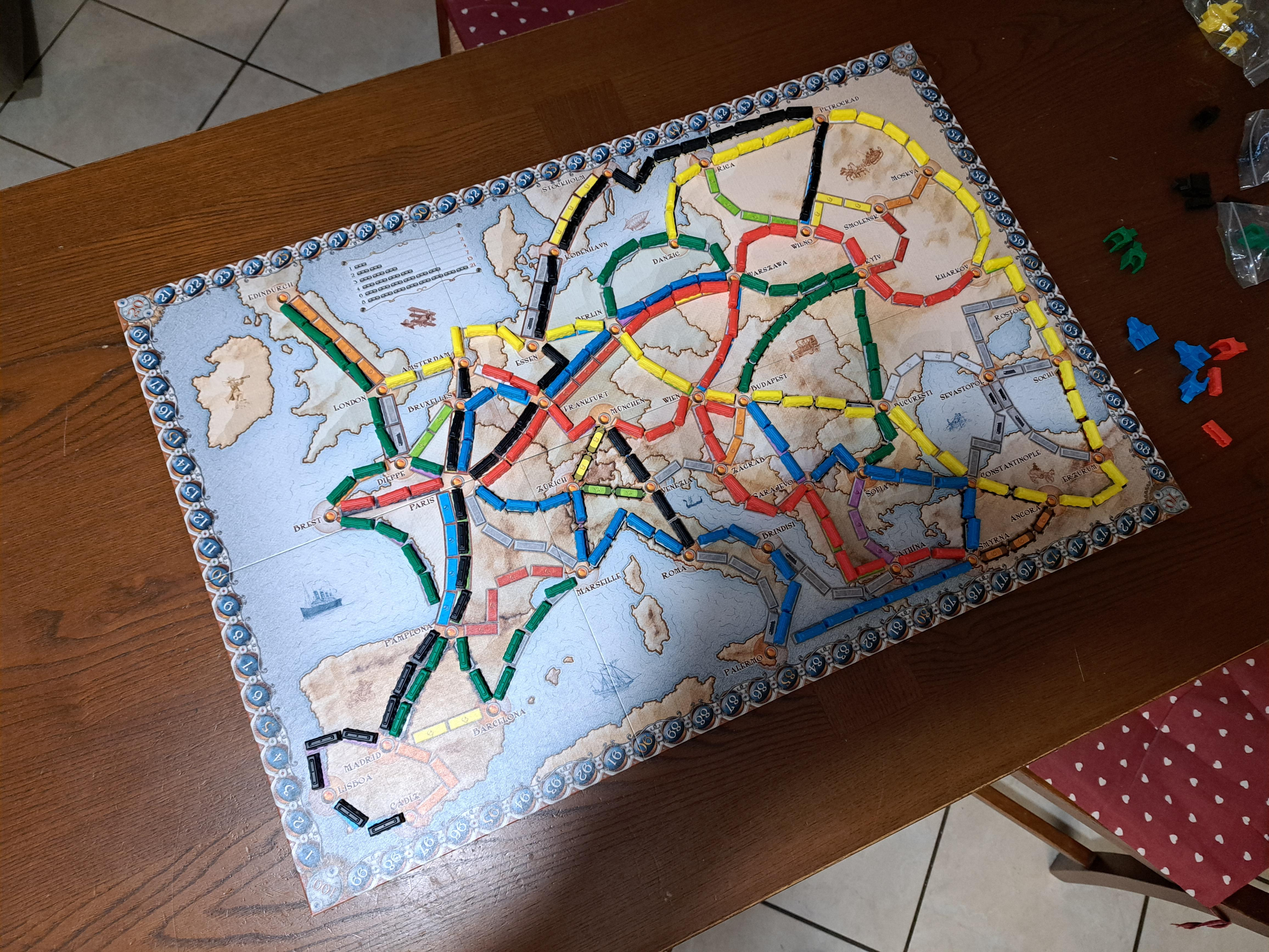corner_bl: (301, 862, 351, 915)
corner_br: (1150, 479, 1193, 518)
corner_tl: (114, 292, 157, 329)
corner_tr: (888, 40, 923, 69)
